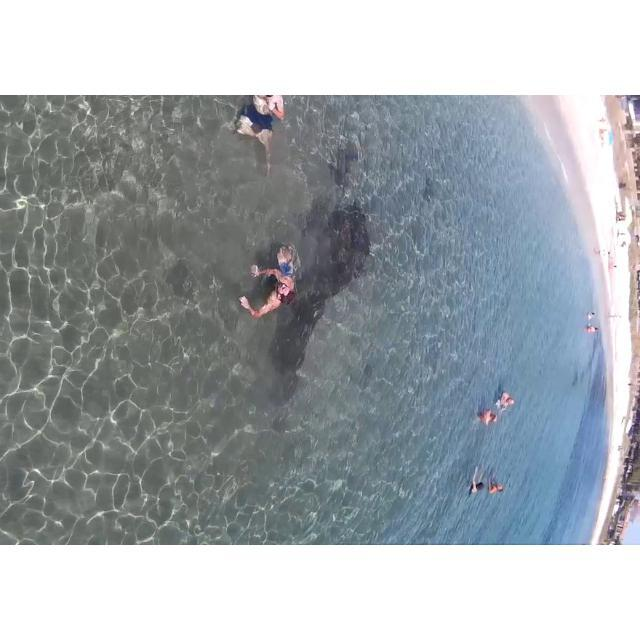human: (243, 227, 312, 339), (238, 95, 286, 177), (470, 401, 504, 431), (497, 387, 527, 414), (481, 474, 510, 499), (472, 462, 487, 509)
